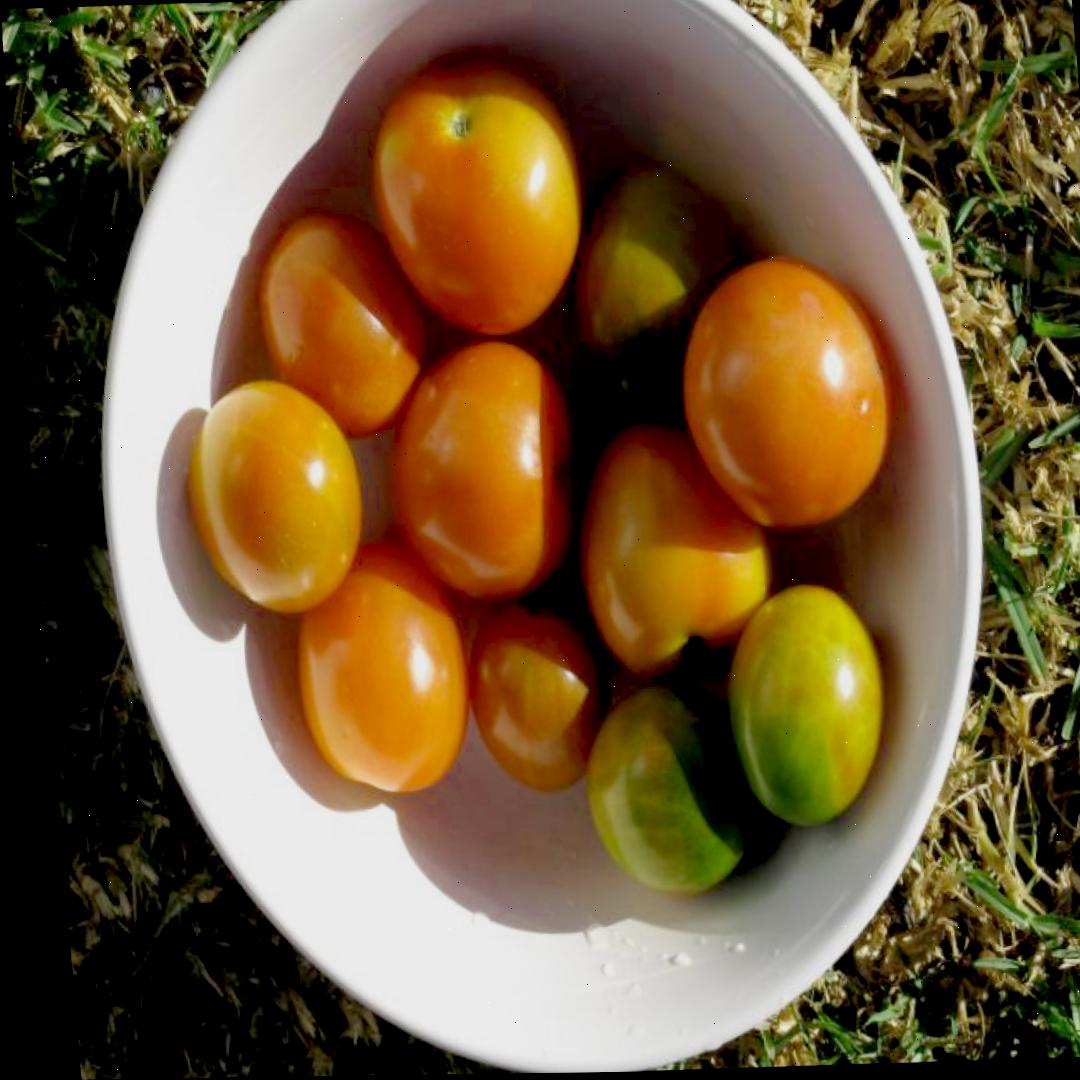matang: (671, 254, 904, 533), (364, 59, 594, 341), (379, 358, 583, 606), (288, 539, 478, 796), (179, 373, 369, 617), (252, 207, 435, 442)
setengah_matang: (569, 415, 780, 677), (561, 155, 753, 424), (719, 581, 893, 832), (580, 682, 760, 897), (459, 585, 623, 794)
